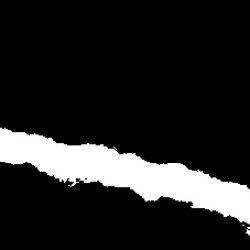crack: (0, 128, 249, 229)
